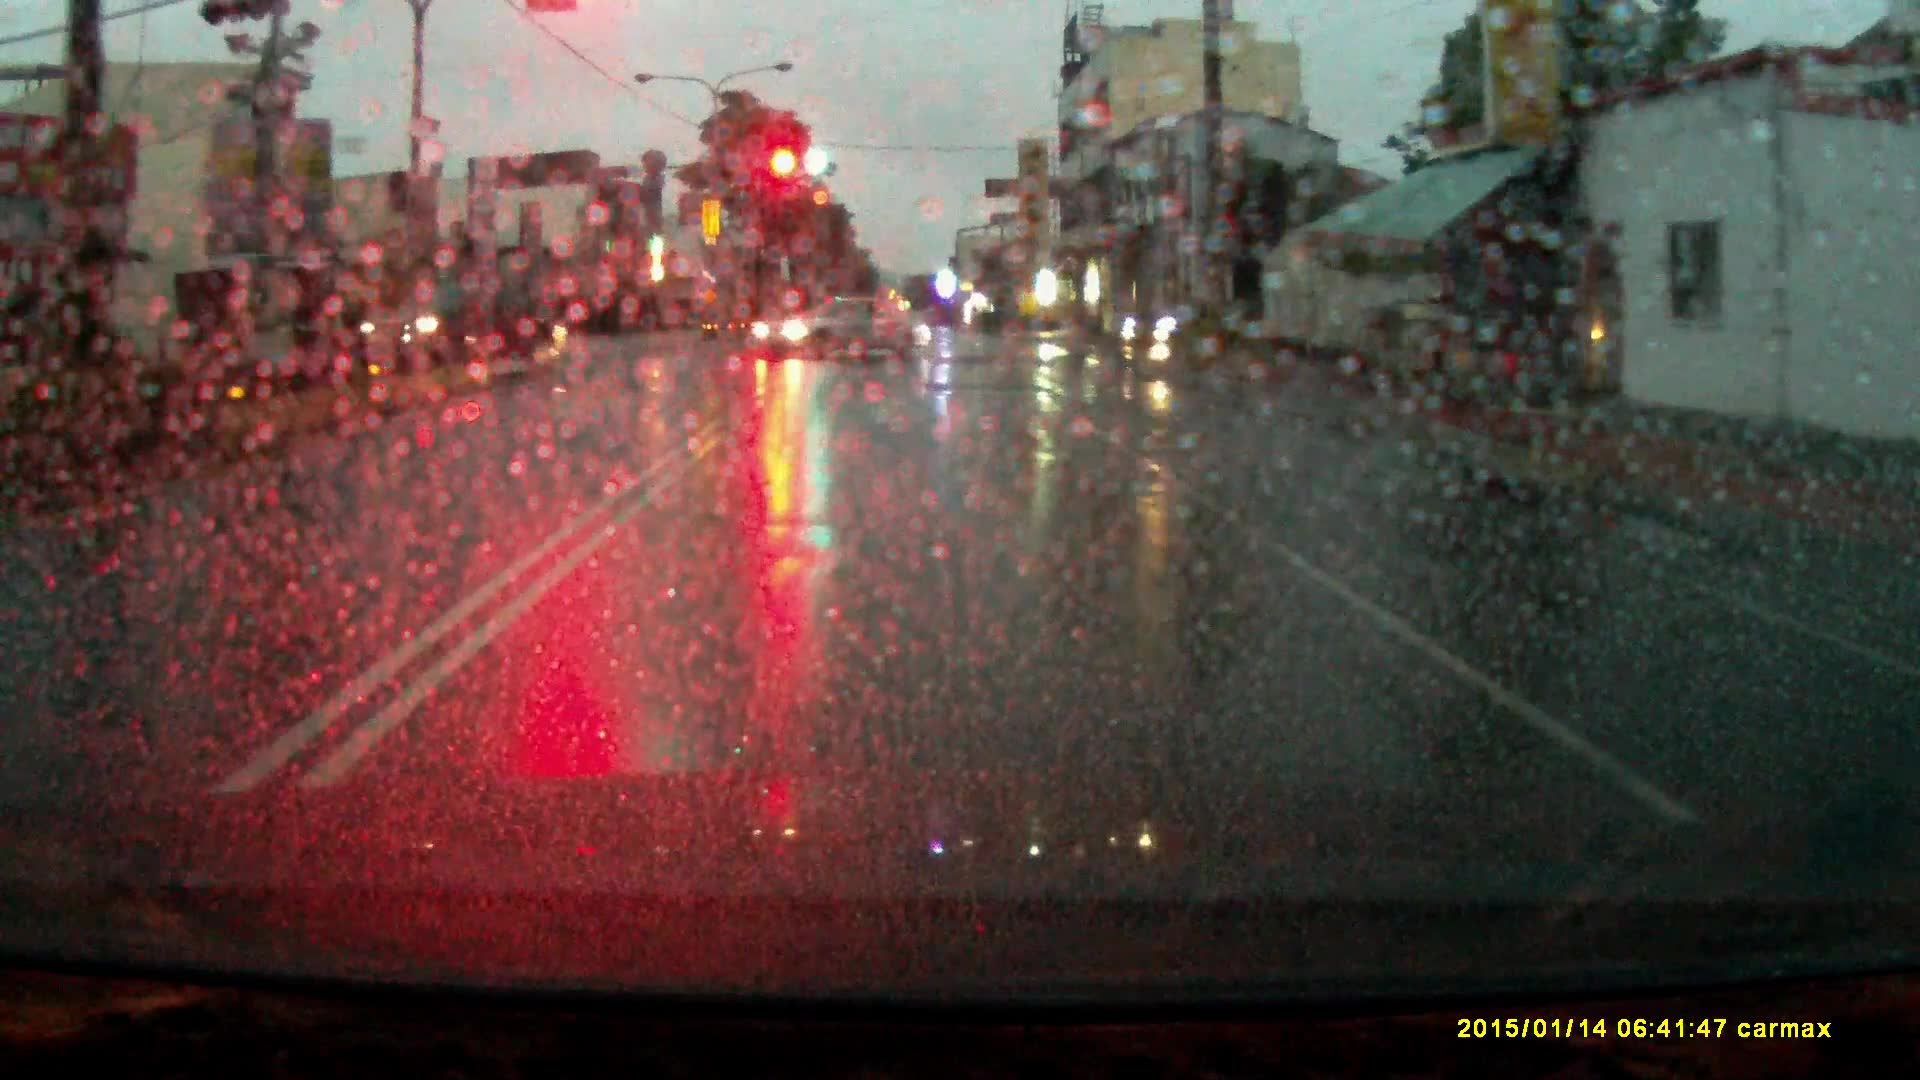vehicle: (342, 274, 571, 380), (749, 297, 931, 367), (1117, 298, 1261, 348)
